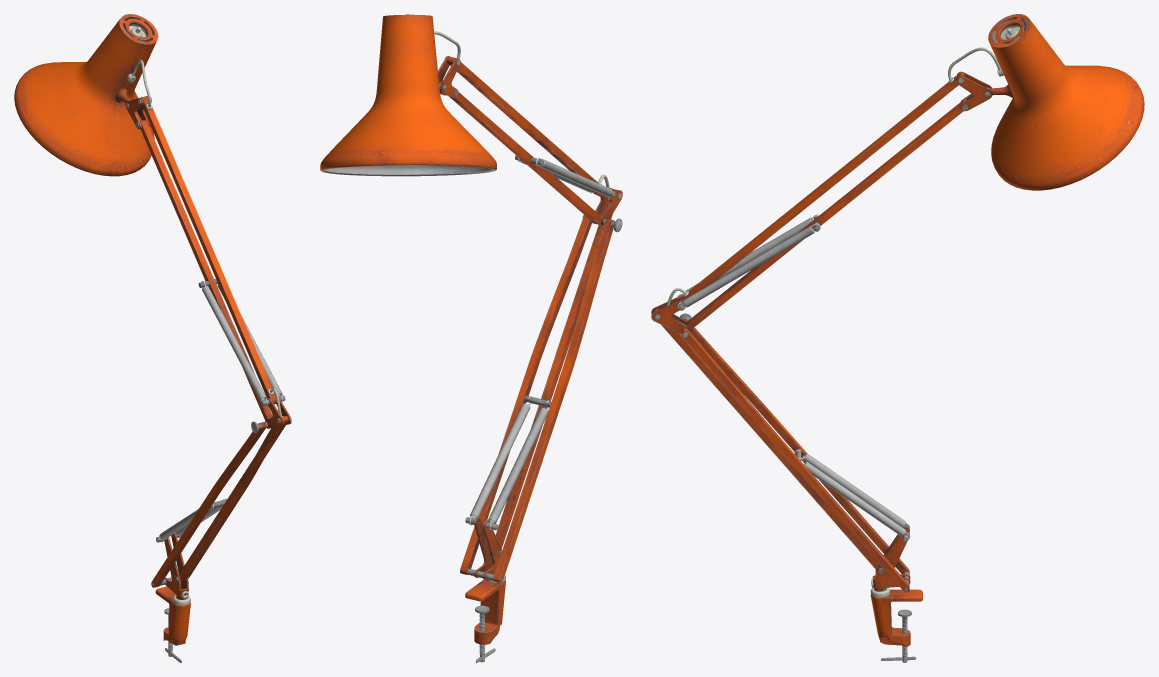
Rendered from detail.fbx.
3 renders of one model, left to right at view 1: azimuth 30°, elevation 25°; view 2: azimuth 150°, elevation 25°; view 3: azimuth 270°, elevation 25°, orthographic. The views are drawn at different scales.
Parts seen in each view (by area): view 1: desk_lamp_arm_01; view 2: desk_lamp_arm_01; view 3: desk_lamp_arm_01.
Boxes of the visible parts, x1,y1,x2,y2 form: desk_lamp_arm_01: (14, 14, 291, 662); desk_lamp_arm_01: (320, 14, 622, 662); desk_lamp_arm_01: (651, 14, 1144, 662).
Bounding box in the file's own units: 20.17 × 89.26 × 61.39.
